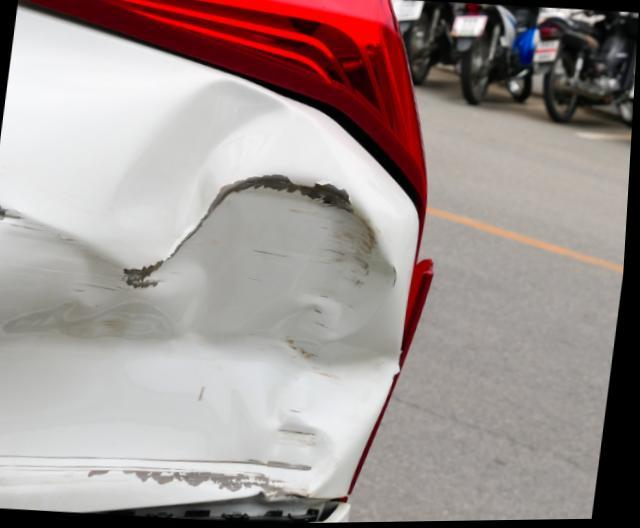dent: (0, 77, 404, 509)
